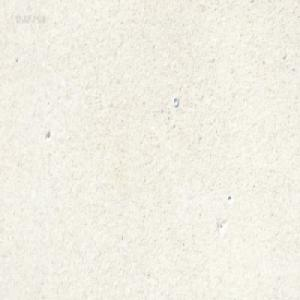Washer: (172, 96, 179, 107)
